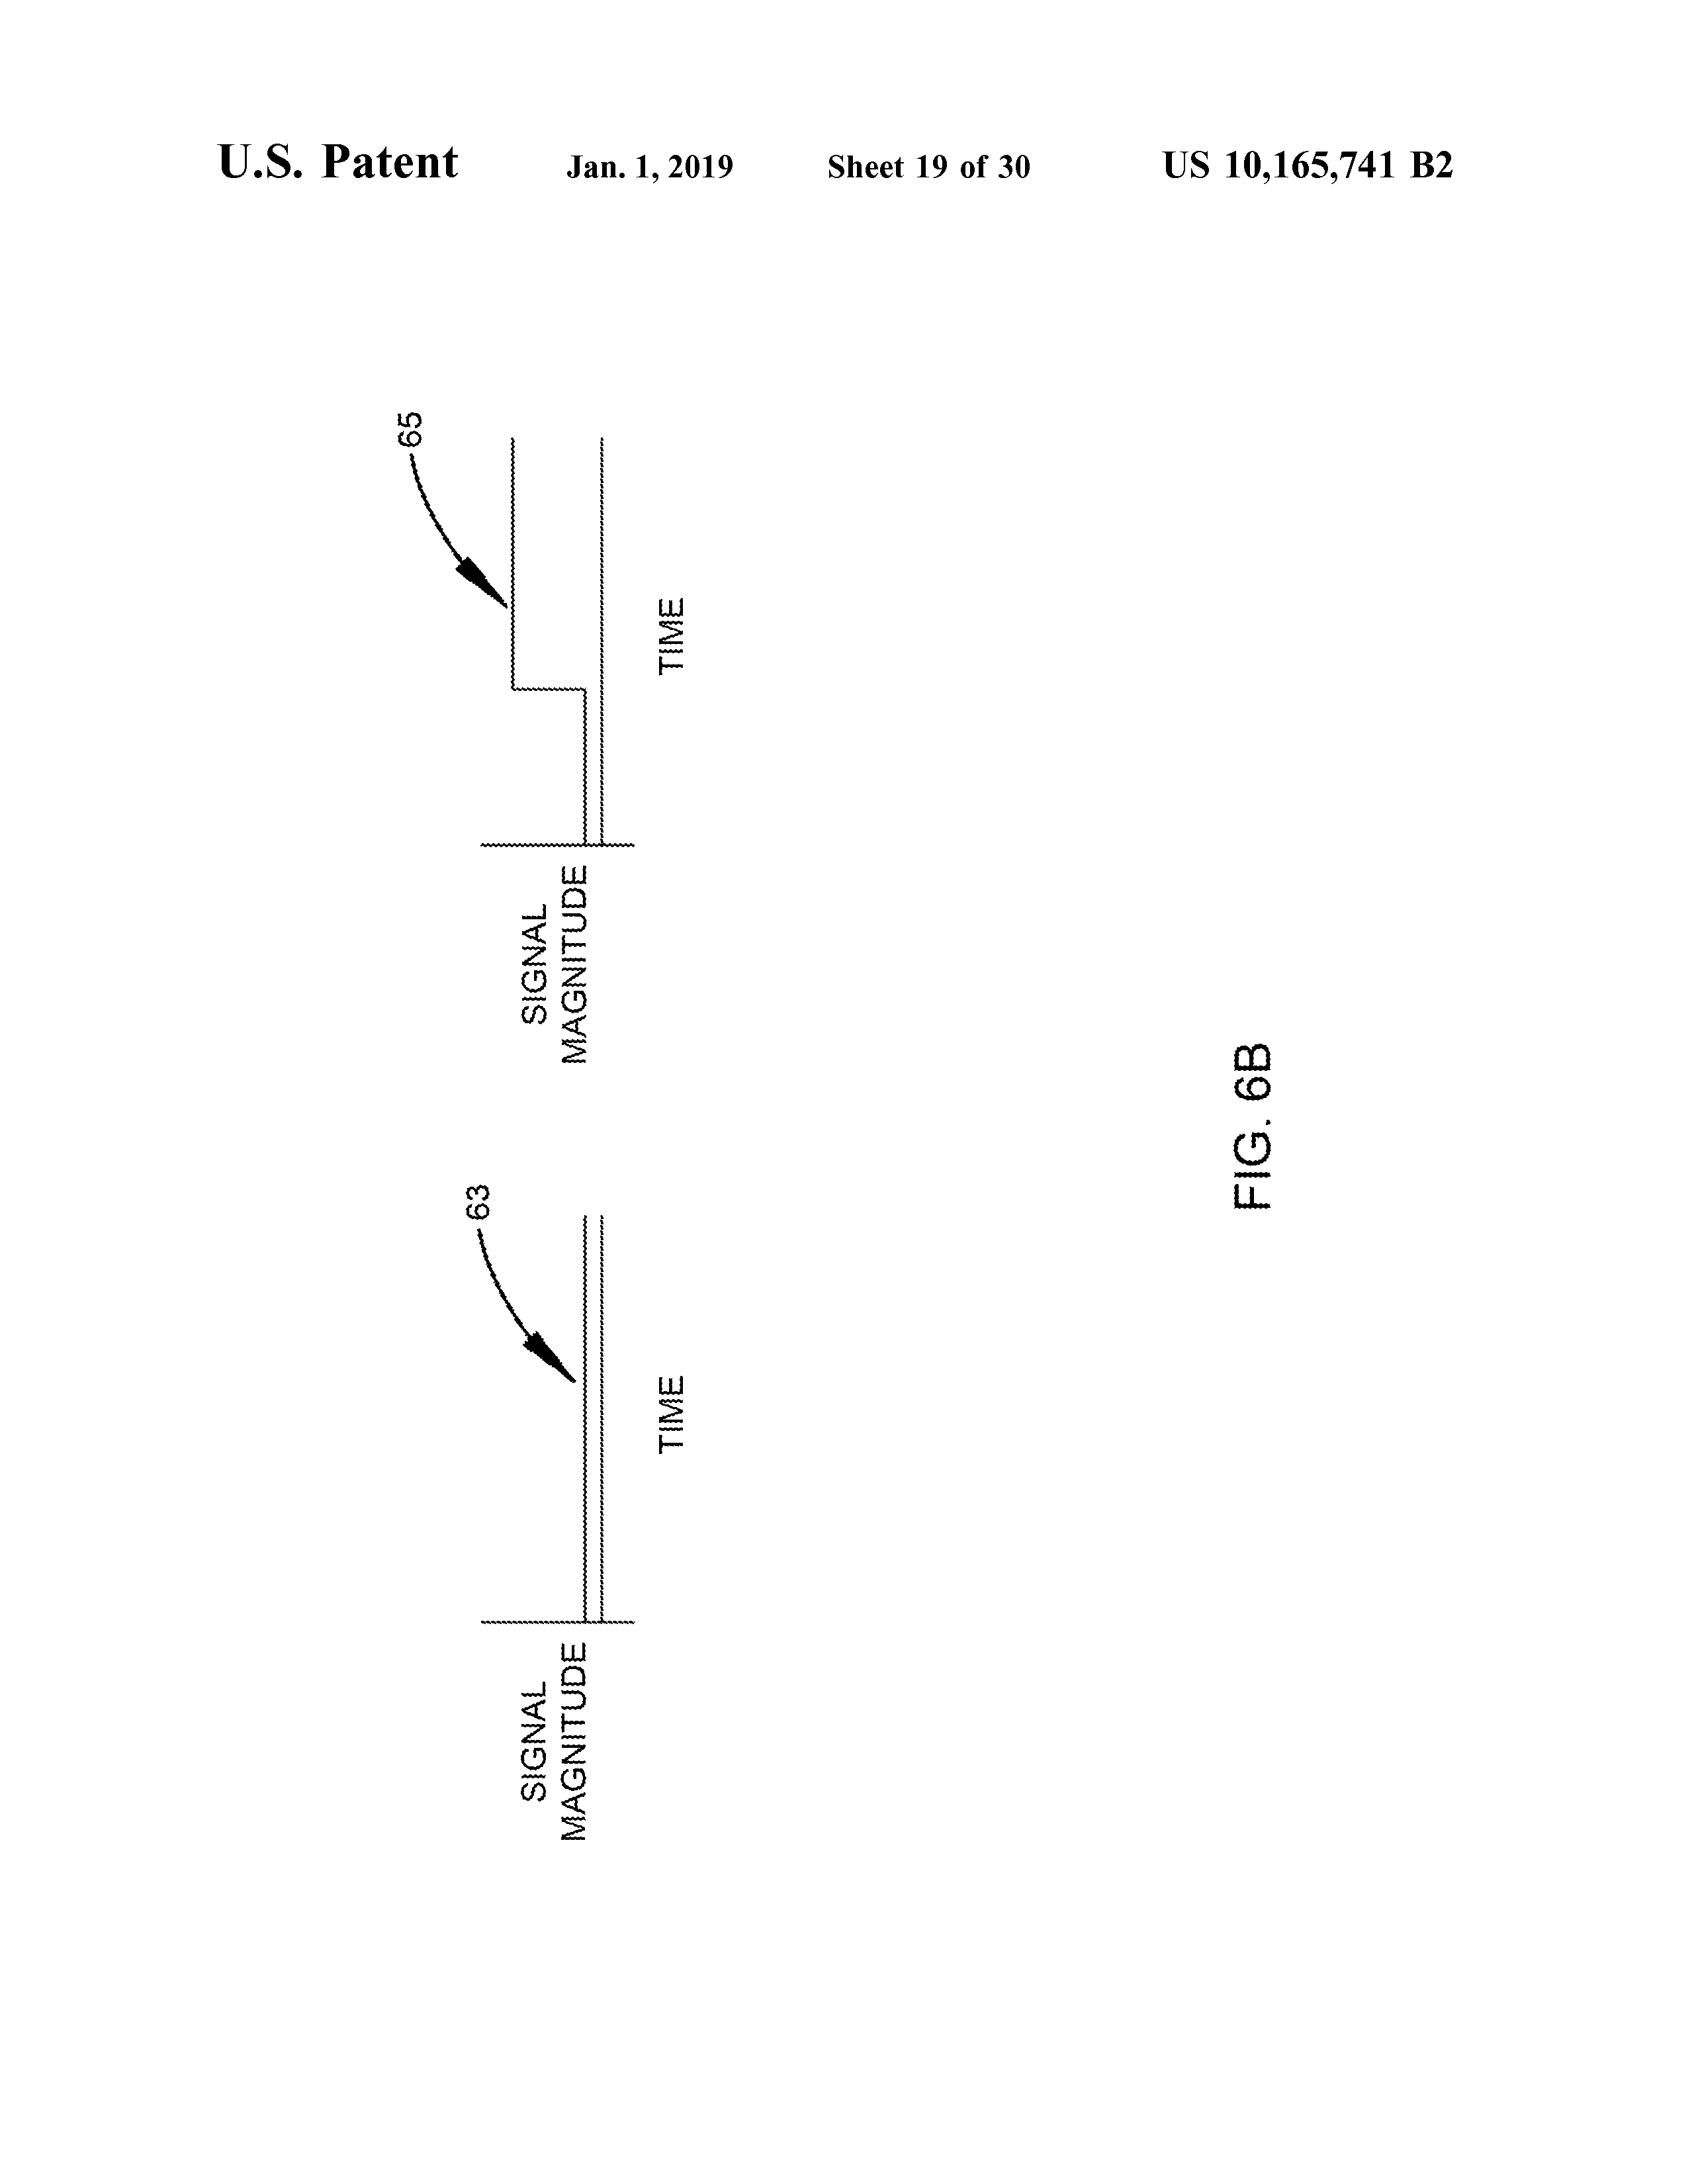patent image: (366, 378, 1317, 1886)
